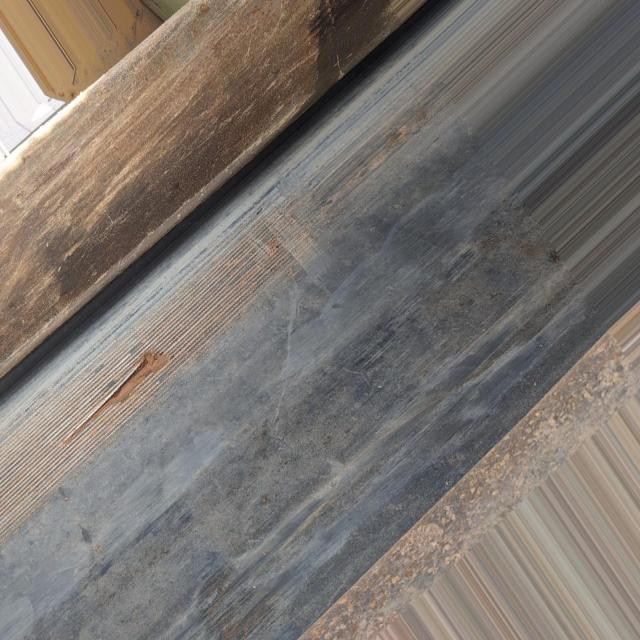impact damage: (0, 213, 296, 504)
